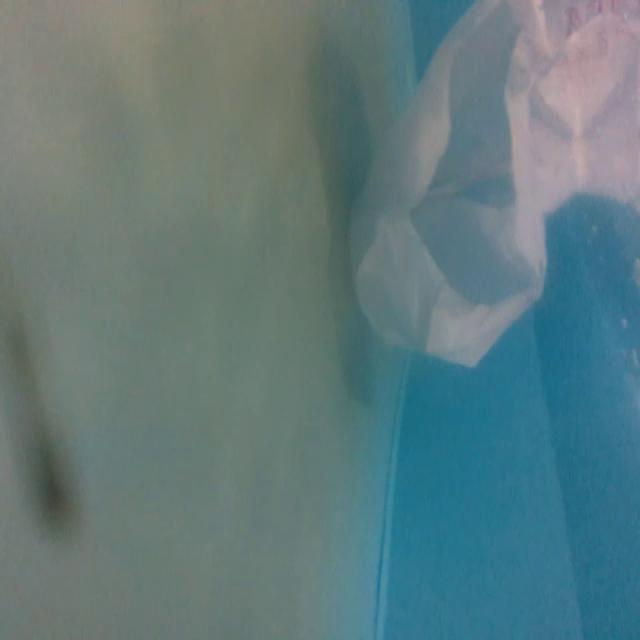plastic bags: (344, 2, 640, 376)
